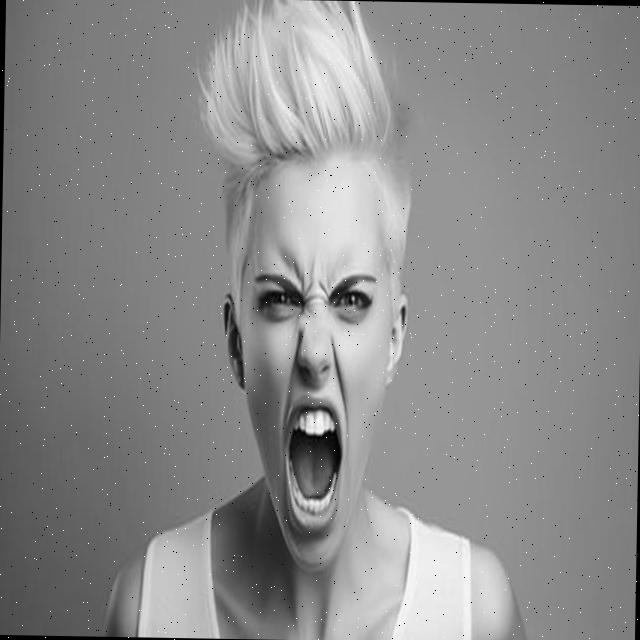Angry: (235, 167, 394, 575)
